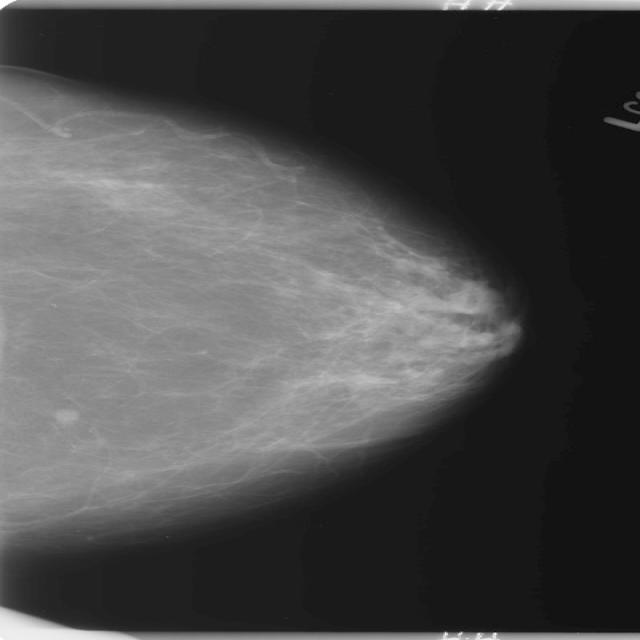tumour: (54, 408, 80, 424)
